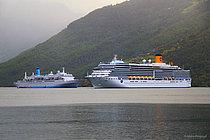Ship: (82, 52, 199, 95), (11, 65, 83, 92)
